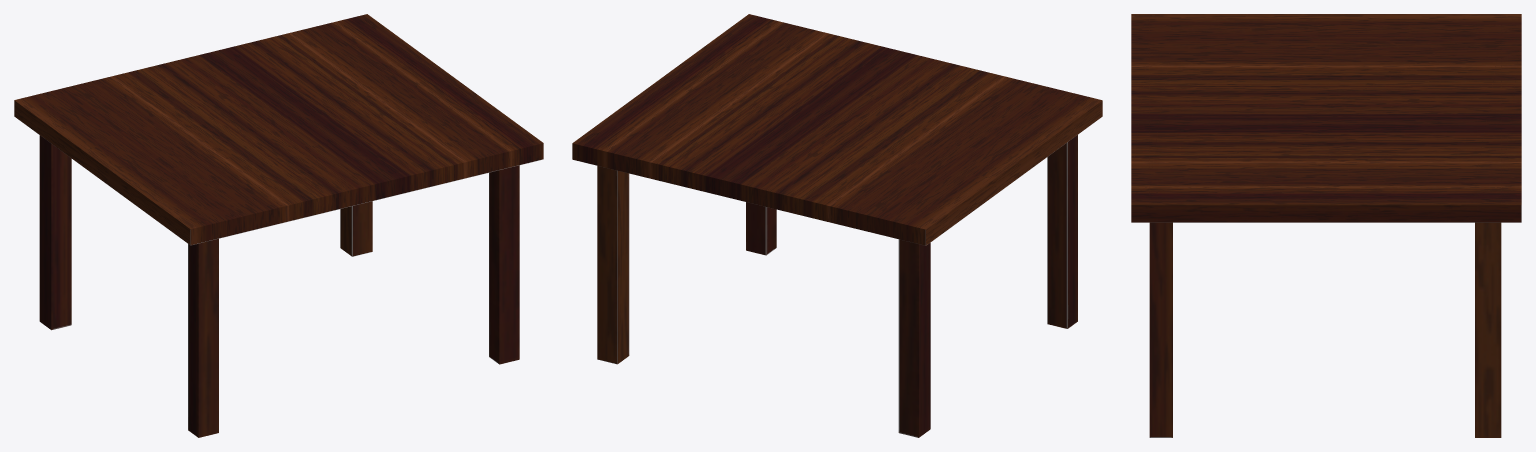
The model's file is Table.fbx.
The picture shows the model from 3 angles, left to right: view 1: azimuth 30°, elevation 25°; view 2: azimuth 150°, elevation 25°; view 3: azimuth 270°, elevation 25°; orthographic projection. The views are drawn at different scales.
Parts seen in each view (by area): view 1: pCube2; view 2: pCube2; view 3: pCube2.
Boxes of the visible parts, x1=… form: pCube2: x1=14, y1=14, x2=543, y2=437; pCube2: x1=572, y1=14, x2=1102, y2=437; pCube2: x1=1131, y1=14, x2=1521, y2=437.
Size of the model in its own units: 9.07 by 5.37 by 7.85.
